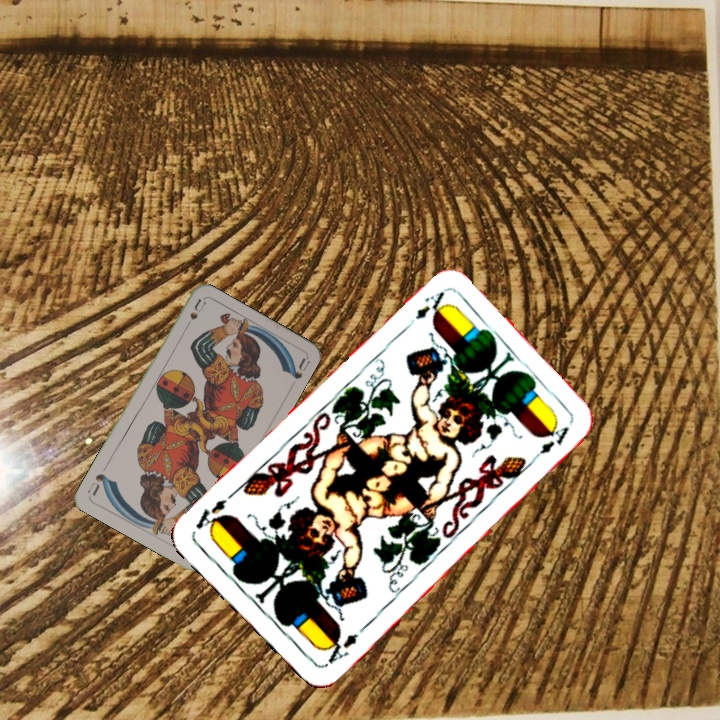EA: (400, 287, 447, 333), (320, 629, 361, 668)
SU: (180, 295, 208, 334)
